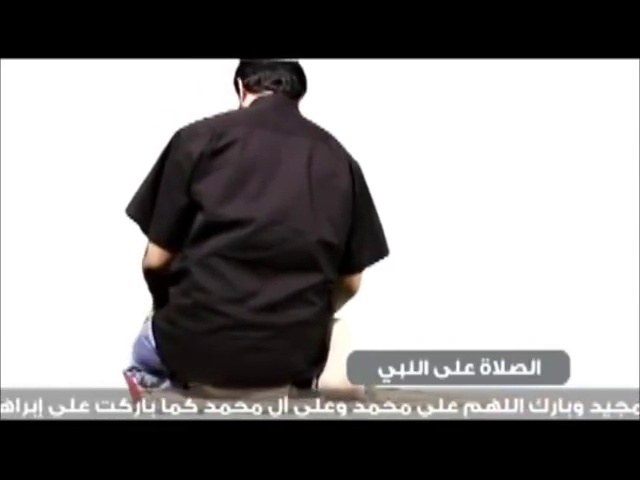sitting: (120, 59, 392, 404)
